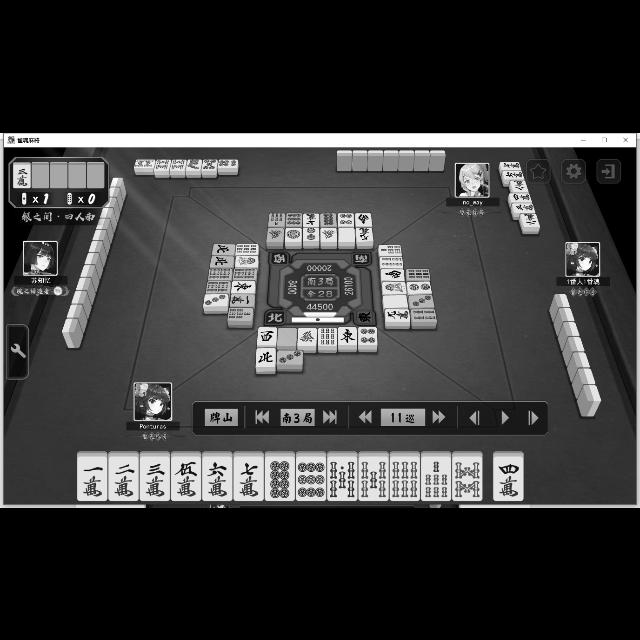1m: (77, 457, 106, 501), (230, 294, 256, 306)
1p: (284, 227, 302, 241)
1s: (382, 280, 408, 294), (234, 254, 258, 266)
2m: (108, 456, 138, 500), (521, 212, 541, 226)
2p: (406, 280, 432, 292), (302, 226, 320, 242)
3m: (141, 456, 169, 500), (13, 162, 31, 186), (512, 202, 536, 212)
3p: (276, 350, 304, 364), (409, 294, 435, 308), (203, 293, 229, 307)
4m: (493, 456, 523, 500), (508, 192, 532, 202)
4p: (358, 326, 378, 344), (338, 212, 354, 226)
4s: (410, 308, 438, 322), (380, 256, 404, 268)
5m: (172, 456, 200, 499)
5p: (202, 157, 218, 170)
5s: (359, 456, 389, 500), (328, 458, 357, 500)
6m: (204, 456, 232, 500), (502, 168, 524, 178)
6p: (218, 157, 240, 167)
6s: (391, 456, 419, 500), (233, 266, 257, 280), (207, 267, 231, 279), (206, 280, 230, 292)
7m: (233, 456, 263, 500), (302, 212, 320, 226), (500, 159, 522, 169)
7p: (186, 156, 202, 170)
7s: (422, 456, 452, 500), (228, 307, 254, 321), (268, 210, 284, 226), (378, 243, 400, 254)
8m: (510, 178, 530, 192)
8p: (264, 457, 294, 501), (320, 212, 338, 226)
8s: (452, 456, 482, 500), (155, 157, 169, 171), (171, 157, 185, 171), (134, 159, 154, 167)
9m: (384, 307, 412, 323), (356, 226, 374, 240)
9p: (296, 456, 326, 499), (284, 212, 304, 226)
9s: (318, 326, 336, 346), (407, 268, 431, 280), (236, 242, 258, 254)
haku: (382, 294, 408, 308), (278, 326, 296, 346), (338, 228, 356, 240)
hatsu: (298, 327, 316, 345), (266, 226, 282, 242), (320, 228, 338, 240)
nan: (381, 268, 405, 280), (354, 211, 372, 225)
pe: (256, 348, 274, 366), (211, 242, 235, 254), (209, 255, 233, 267)
sha: (257, 325, 277, 347)
tou: (338, 326, 356, 346), (232, 280, 256, 292)
